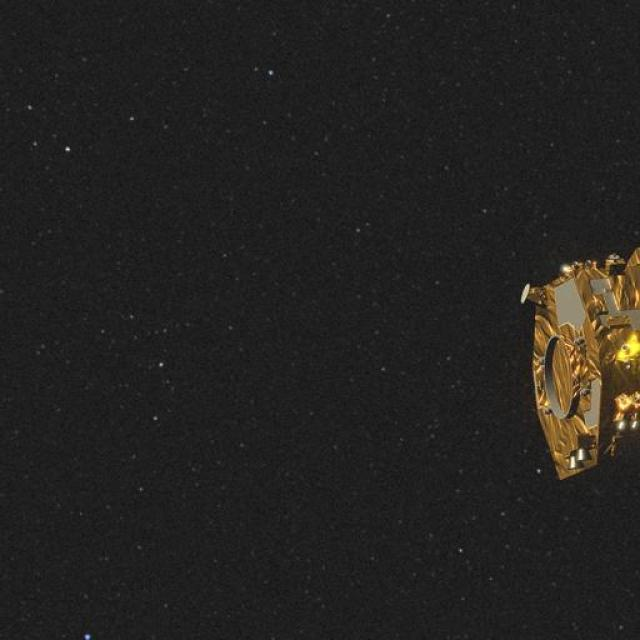lisa_pathfinder: (498, 223, 640, 508)
